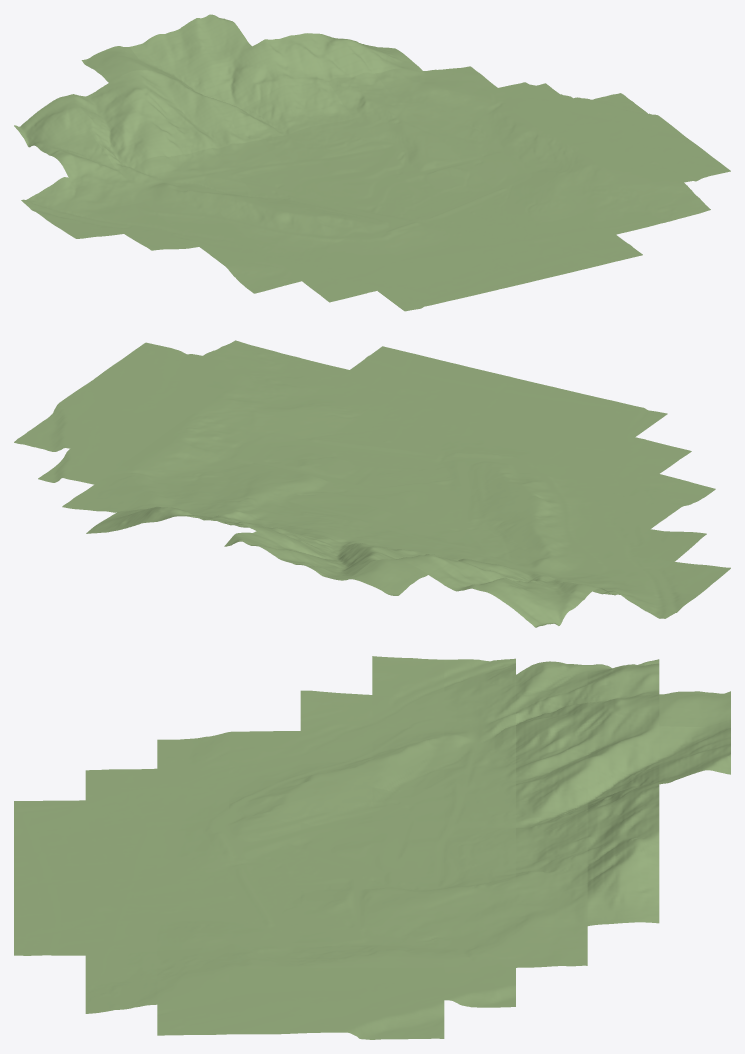
Rendered from terrain_lod1.glb.
The picture shows the model from 3 angles, top to bottom: view 1: azimuth 30°, elevation 25°; view 2: azimuth 150°, elevation 25°; view 3: azimuth 270°, elevation 25°; orthographic projection. The views are drawn at different scales.
Visible parts, largest first — view 1: t_6_9, t_7_9, t_6_10, t_3_8, t_2_9, t_5_8, t_8_9, t_5_10, t_7_8, t_4_8, t_4_9, t_6_8 (+75 smaller); view 2: t_9_4, t_2_9, t_10_4, t_10_6, t_10_5, t_9_1, t_8_3, t_12_6, t_12_5, t_8_1, t_7_1, t_6_1 (+71 smaller); view 3: t_9_9, t_5_9, t_5_5, t_4_9, t_4_8, t_10_8, t_12_6, t_2_5, t_11_7, t_4_6, t_1_6, t_6_4 (+75 smaller).
Boxes of the visible parts, bbox=[...] form: t_6_9: bbox=[205, 46, 279, 109]; t_7_9: bbox=[252, 34, 326, 87]; t_6_10: bbox=[177, 14, 251, 68]; t_3_8: bbox=[89, 112, 163, 169]; t_2_9: bbox=[14, 97, 88, 150]; t_5_8: bbox=[184, 100, 259, 148]; t_8_9: bbox=[300, 33, 374, 81]; t_5_10: bbox=[130, 30, 204, 80]; t_7_8: bbox=[280, 80, 354, 127]; t_4_8: bbox=[137, 109, 211, 156]; t_4_9: bbox=[109, 70, 183, 113]; t_6_8: bbox=[237, 87, 306, 139]; t_9_4: bbox=[251, 409, 340, 451]; t_2_9: bbox=[485, 581, 575, 627]; t_10_4: bbox=[194, 390, 282, 435]; t_10_6: bbox=[128, 436, 217, 478]; t_10_5: bbox=[161, 413, 250, 457]; t_9_1: bbox=[350, 346, 438, 383]; t_8_3: bbox=[341, 406, 429, 443]; t_12_6: bbox=[14, 416, 103, 451]; t_12_5: bbox=[47, 389, 136, 425]; t_8_1: bbox=[407, 360, 495, 397]; t_7_1: bbox=[464, 373, 552, 410]; t_6_1: bbox=[521, 387, 609, 423]; t_9_9: bbox=[587, 859, 659, 925]; t_5_9: bbox=[587, 726, 659, 793]; t_5_5: bbox=[300, 781, 372, 825]; t_4_9: bbox=[587, 694, 659, 754]; t_4_8: bbox=[516, 707, 587, 772]; t_10_8: bbox=[516, 925, 587, 967]; t_12_6: bbox=[372, 999, 444, 1039]; t_2_5: bbox=[300, 690, 372, 731]; t_11_7: bbox=[444, 967, 515, 1007]; t_4_6: bbox=[372, 746, 444, 792]; t_1_6: bbox=[372, 656, 444, 697]; t_6_4: bbox=[229, 819, 300, 859].
Bounding box in the file's own units: 3072 × 400 × 2560.
